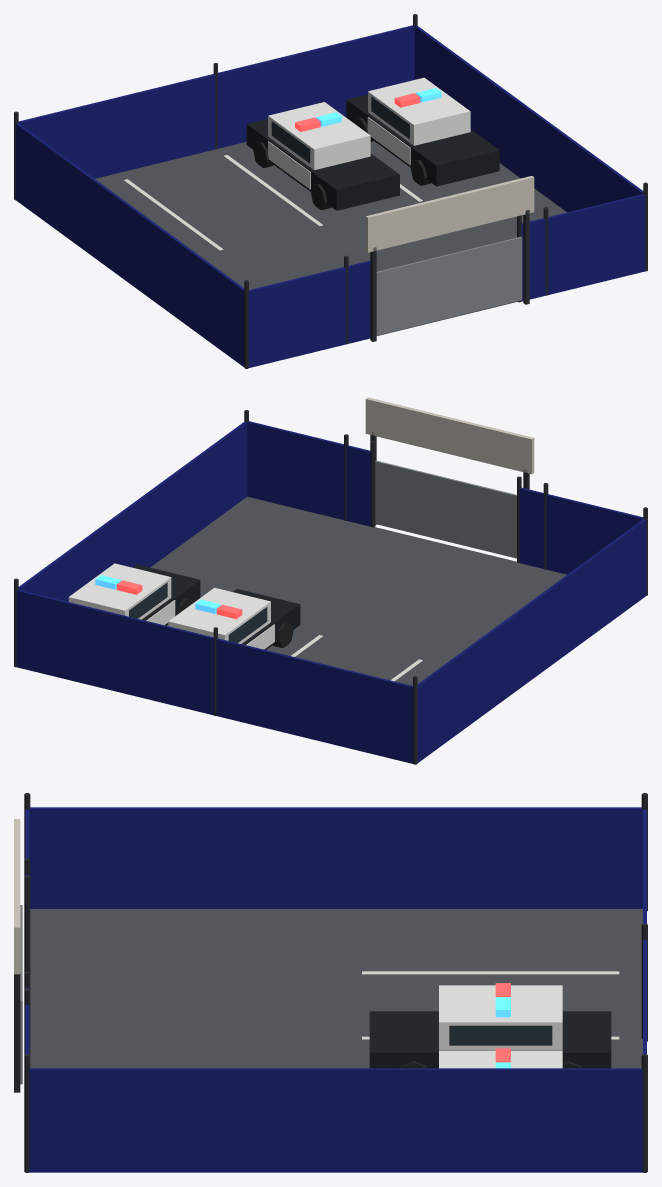
Rendered from places_impound.glb.
3 renders of one model, top to bottom at view 1: azimuth 30°, elevation 25°; view 2: azimuth 150°, elevation 25°; view 3: azimuth 270°, elevation 25°, orthographic. The views are drawn at different scales.
Visible parts, largest first — view 1: PlacesImpound_body; view 2: PlacesImpound_body; view 3: PlacesImpound_body.
Boxes of the visible parts, <box> form: PlacesImpound_body: <box>14,14,647,368</box>; PlacesImpound_body: <box>14,397,647,764</box>; PlacesImpound_body: <box>14,793,647,1172</box>.
Size of the model in its own units: 12.1 by 3.6 by 12.32.
